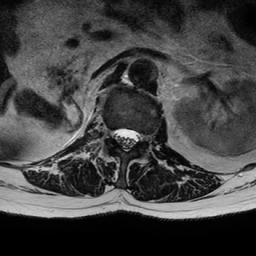CCS_normal: (122, 120, 131, 160)
LFS_normal: (140, 122, 148, 150)
LLS_normal: (131, 120, 140, 153)
RFS_normal: (105, 117, 113, 148)
RLS_normal: (112, 120, 122, 151)
